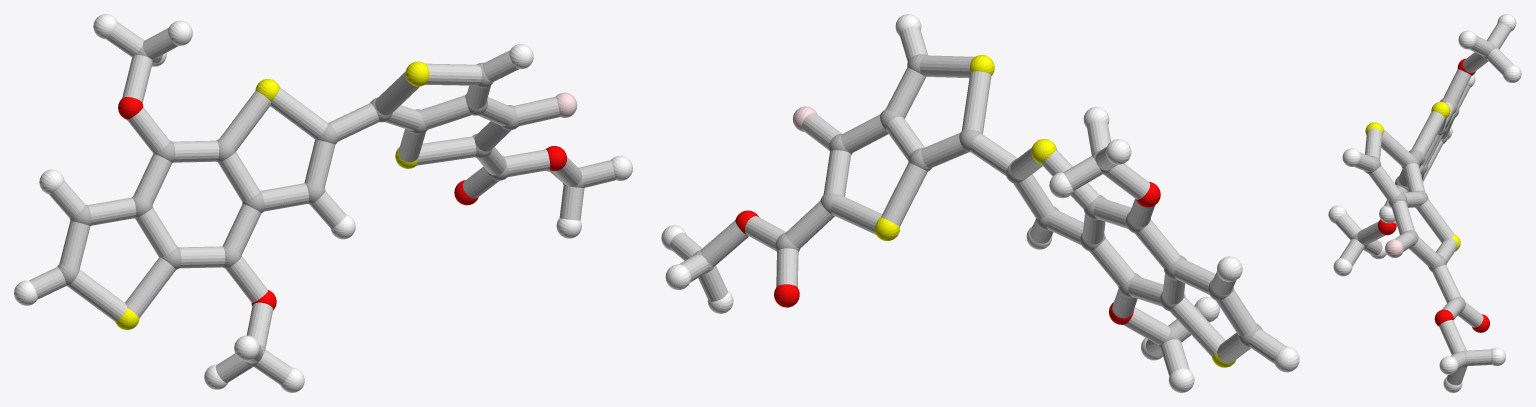
The model's file is Dimethoxy_Benzodithiophene_Phi_15_Theta_240_Methylcarbonyl_3_Fluoro_Thienothiophene.glb.
3 views of the same model, side by side, from view 1: azimuth 30°, elevation 25°; view 2: azimuth 150°, elevation 25°; view 3: azimuth 270°, elevation 25° (orthographic). The views are drawn at different scales.
Visible parts, largest first — view 1: grp15205, grp8689, grp1, grp7241, grp13395; view 2: grp15205, grp8689, grp1, grp7241, grp13395; view 3: grp15205, grp8689, grp1, grp13395, grp7241, grp14843.
Boxes of the visible parts, left/top/right/bottom form: grp15205: left=29, top=22, right=615, bottom=384; grp8689: left=14, top=14, right=632, bottom=392; grp1: left=57, top=46, right=583, bottom=366; grp7241: left=115, top=61, right=429, bottom=329; grp13395: left=118, top=97, right=566, bottom=310; grp15205: left=670, top=26, right=1286, bottom=375; grp8689: left=661, top=14, right=1299, bottom=392; grp1: left=693, top=54, right=1262, bottom=347; grp7241: left=874, top=55, right=1236, bottom=367; grp13395: left=735, top=182, right=1160, bottom=324; grp15205: left=1335, top=22, right=1513, bottom=385; grp8689: left=1328, top=14, right=1521, bottom=392; grp1: left=1352, top=43, right=1497, bottom=367; grp13395: left=1377, top=58, right=1489, bottom=332; grp7241: left=1365, top=101, right=1460, bottom=251; grp14843: left=1385, top=239, right=1403, bottom=257.
Bounding box in the file's own units: 16.89 × 8.26 × 6.14.
